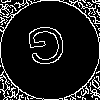G: (25, 25, 69, 75)
